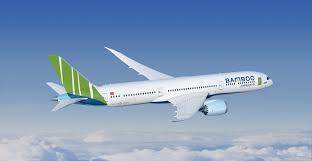maybay_dansu: (42, 48, 274, 123)
